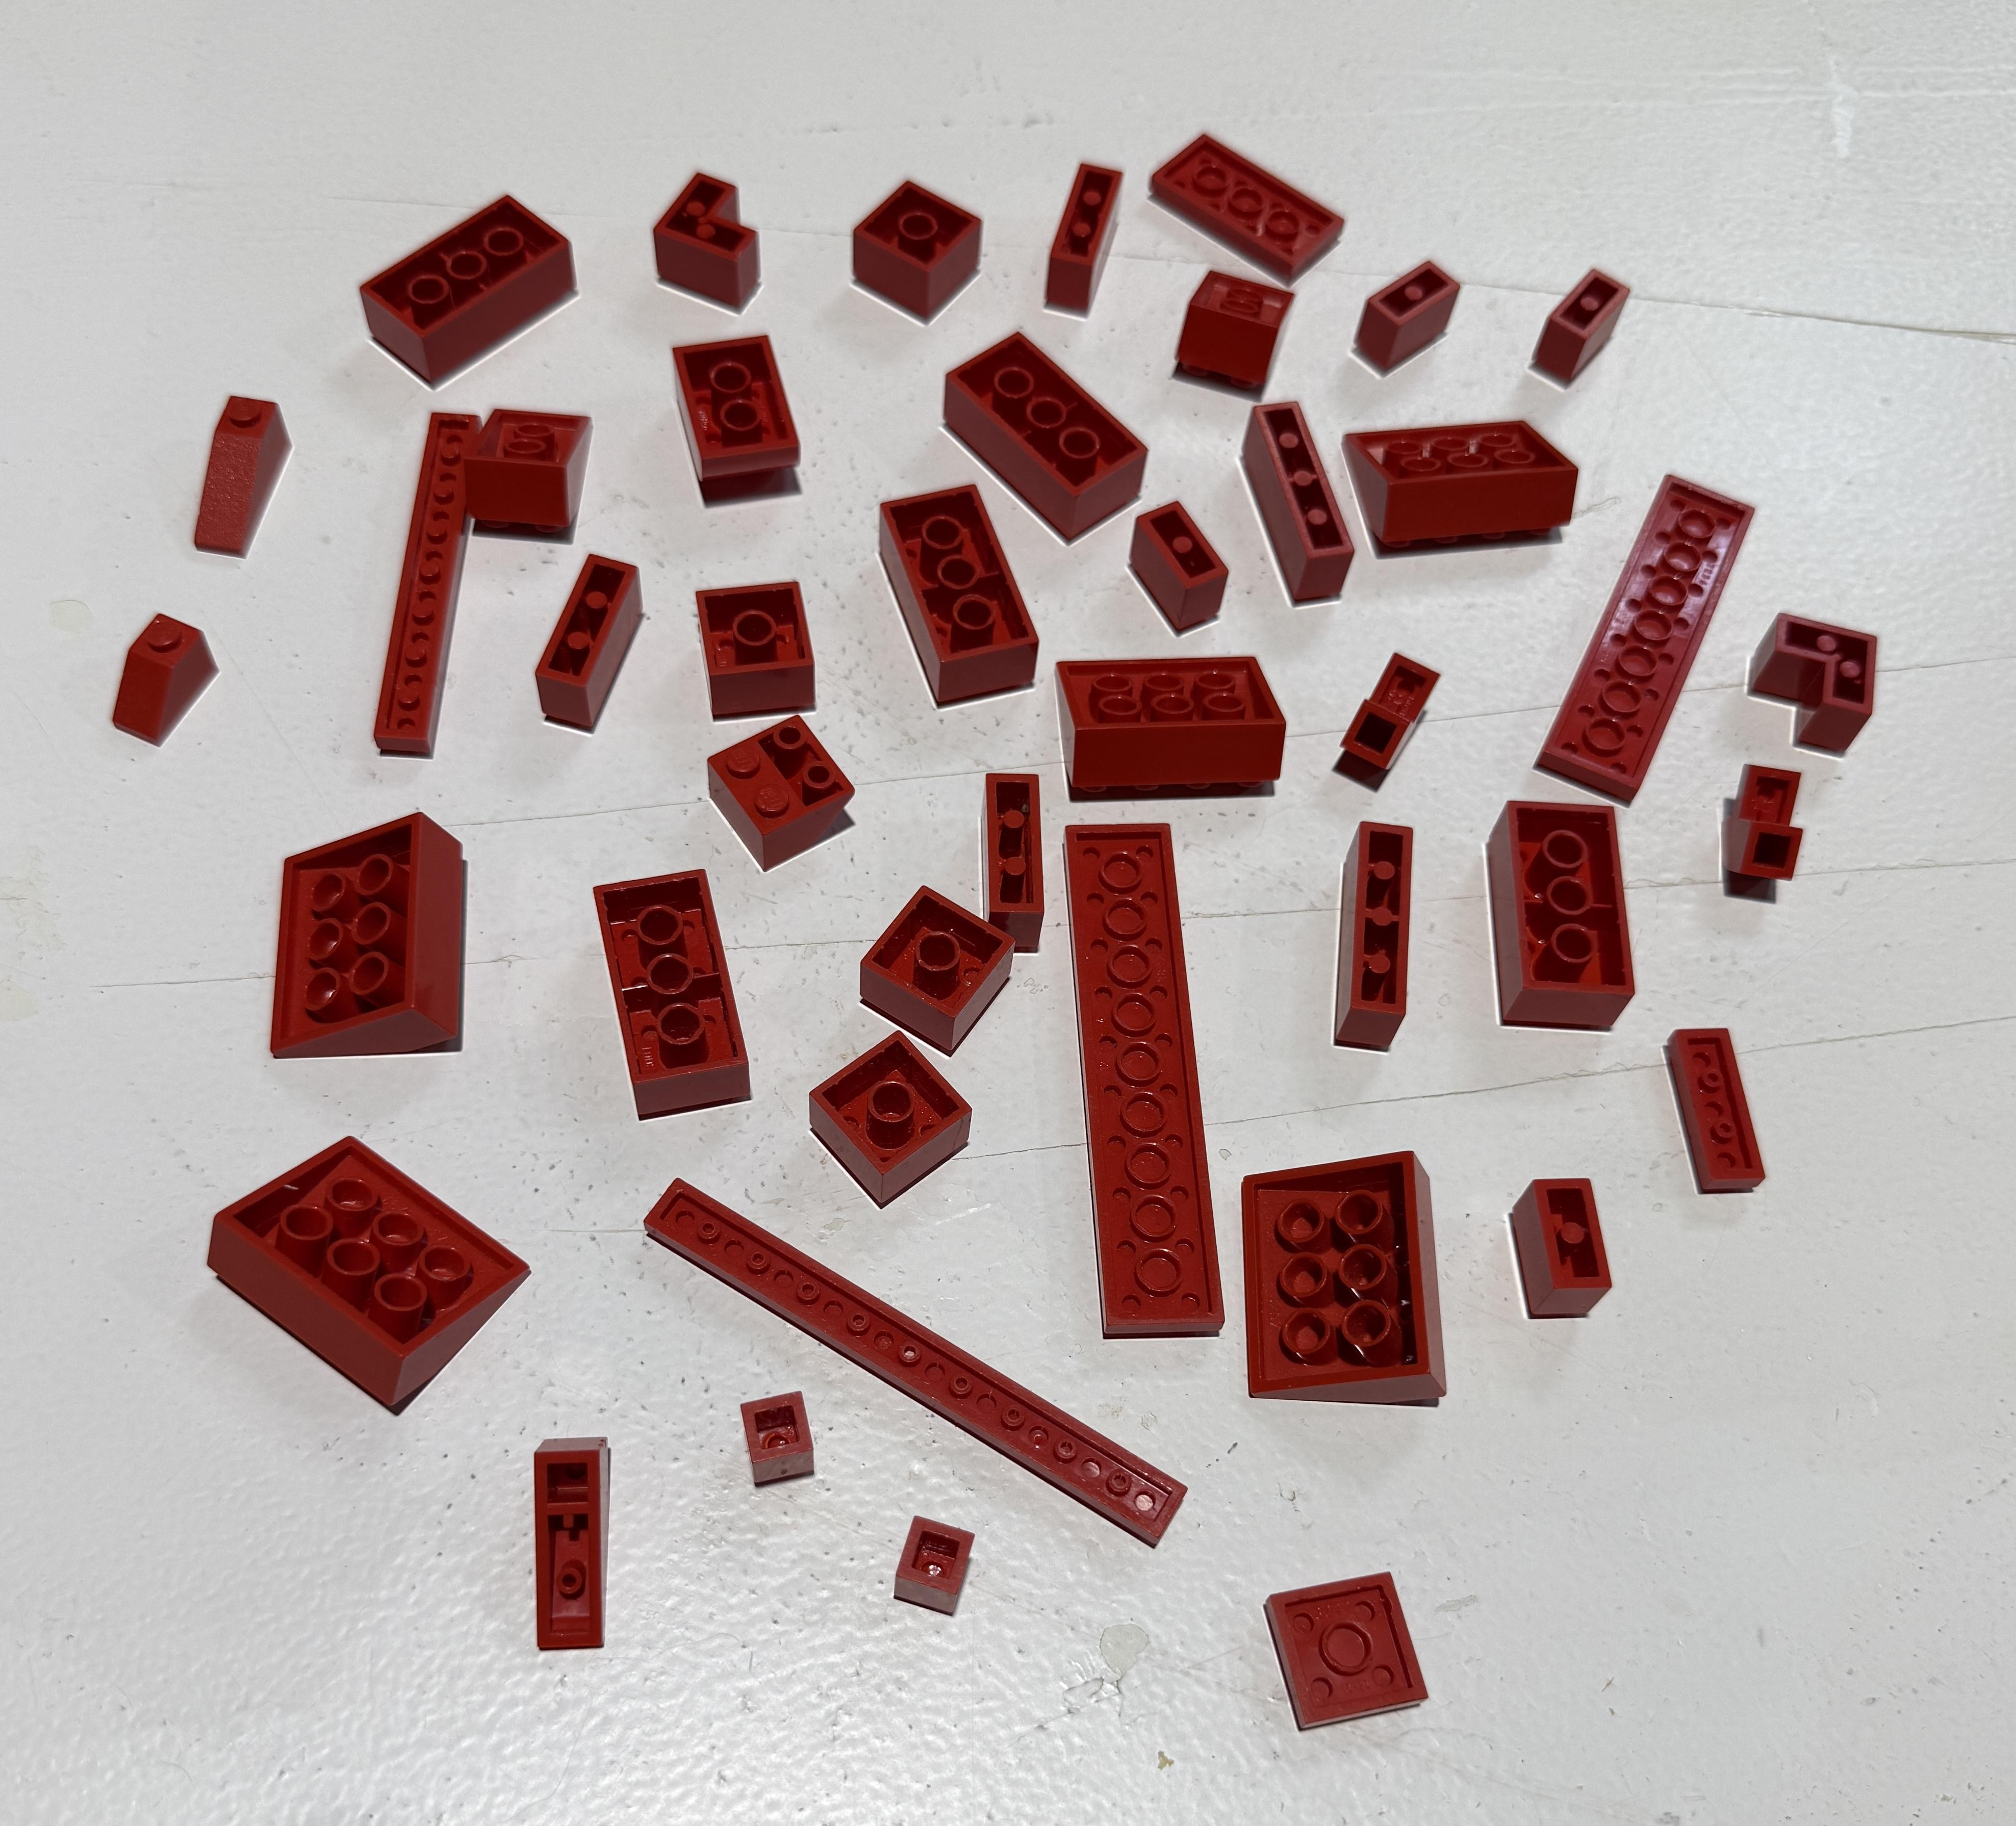Special_02: (453, 397, 608, 550)
brick_1x1: (868, 1485, 996, 1638), (704, 1368, 841, 1499)
brick_1x2: (1482, 1148, 1637, 1357), (1110, 472, 1266, 650), (1510, 223, 1660, 400), (1336, 235, 1489, 390)
brick_1x3: (497, 539, 664, 751), (952, 741, 1075, 967), (1031, 140, 1143, 327)
brick_1x4: (1224, 363, 1366, 623), (1301, 801, 1442, 1062)
brick_2x2: (785, 1011, 996, 1217), (846, 862, 1013, 1046), (836, 155, 1006, 330), (683, 557, 838, 727)
brick_2x4: (339, 174, 594, 406), (924, 318, 1166, 550), (581, 850, 769, 1147), (1463, 776, 1652, 1057), (852, 465, 1052, 723)
plate_2x2: (1224, 1542, 1454, 1754)
